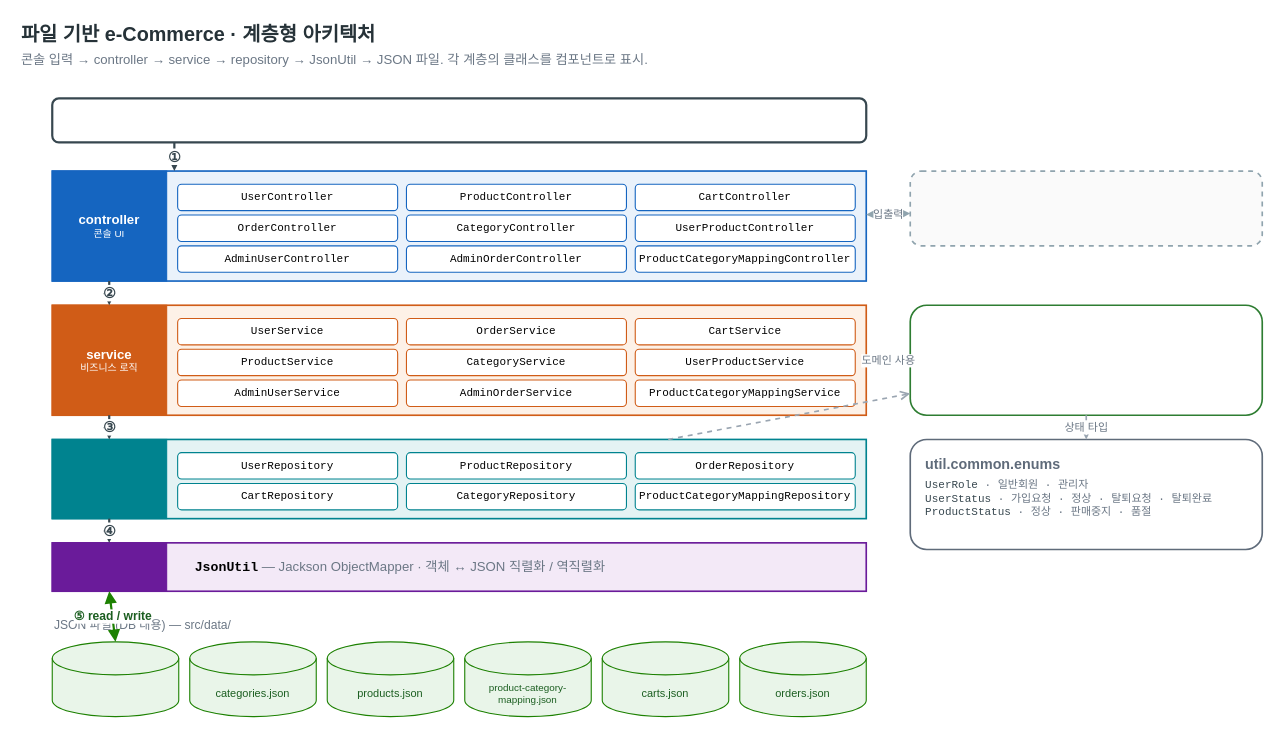
The diagram is 1282 pixels wide and 736 high, and some of its shapes have lost their labels. The shapes that lost their labels are listed below. From the top down, each one's centre as x and y in pixels, then its label:
At (459,120): "Ecommerce.main() JsonUtil로 JSON 6종 로드 → UserController 시작".
At (1086,208): "콘솔 UI System.in / System.out InputUtil — 메뉴 선택 · 입력 검증".
At (1086,360): "domain — POJO User · Product · Order · Cart Category · ProductCategoryMapping".
At (109,478): "repository 파일 CRUD".
At (109,566): "util.json".
At (115,679): "user.json".
